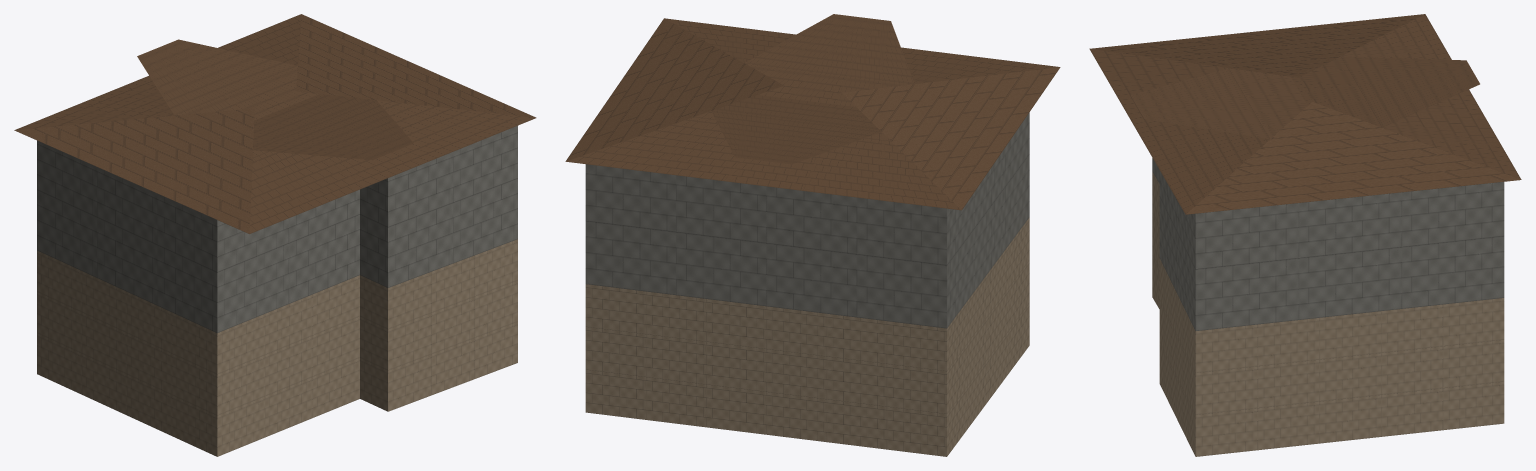
The model's file is bld_c43_33_255.gltf.
3 views of the same model, side by side, from view 1: azimuth 30°, elevation 25°; view 2: azimuth 150°, elevation 25°; view 3: azimuth 270°, elevation 25° (orthographic). The views are drawn at different scales.
Parts seen in each view (by area): view 1: bld_c43_33_255; view 2: bld_c43_33_255; view 3: bld_c43_33_255.
Part boxes in pixels (left/top/right/bottom): bld_c43_33_255: left=14, top=14, right=536, bottom=456; bld_c43_33_255: left=565, top=14, right=1060, bottom=456; bld_c43_33_255: left=1089, top=14, right=1521, bottom=456.
Size of the model in its own units: 17.46 by 11.1 by 15.88.
3 materials, 3 textured.
